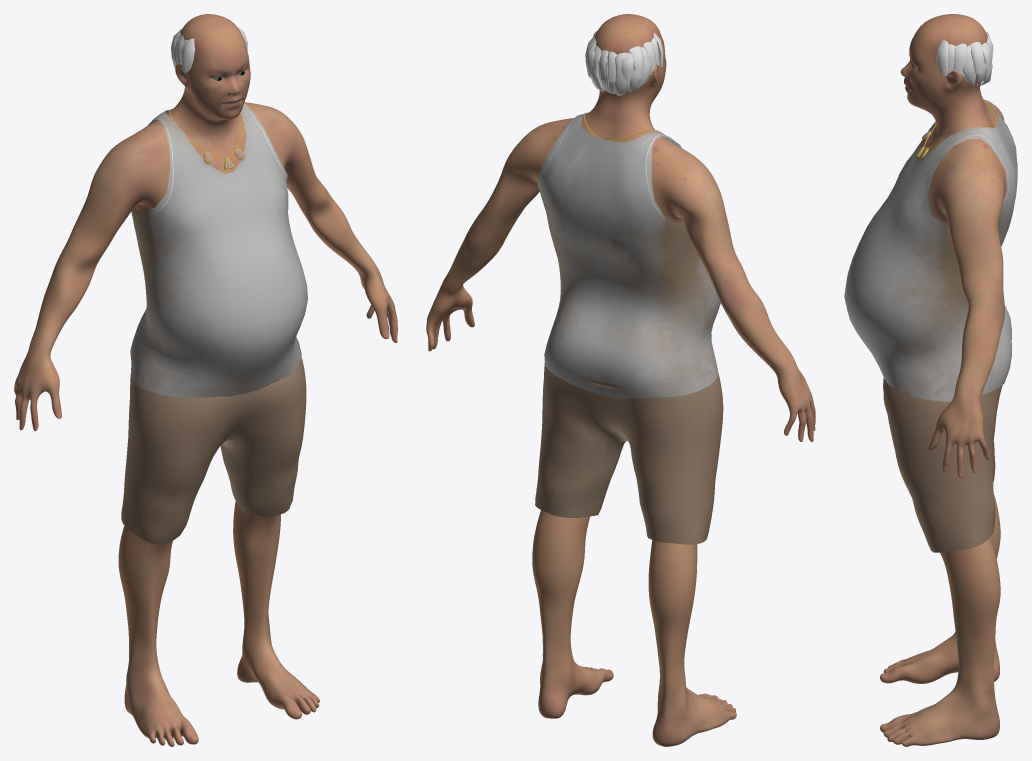
Rendered from OldManModel.fbx.
3 views of the same model, side by side, from view 1: azimuth 30°, elevation 25°; view 2: azimuth 150°, elevation 25°; view 3: azimuth 270°, elevation 25° (orthographic).
Visible parts, largest first — view 1: Oldman, Shirt, Pant, NurbsPath.013; view 2: Oldman, Shirt, Pant, NurbsPath.013; view 3: Oldman, Shirt, Pant, NurbsPath.013.
Part boxes in pixels (<box>): Oldman: <box>14,14,397,746</box>; Shirt: <box>130,103,307,397</box>; Pant: <box>121,357,306,544</box>; NurbsPath.013: <box>171,27,247,72</box>; Oldman: <box>426,14,815,746</box>; Shirt: <box>536,112,720,398</box>; Pant: <box>535,362,723,544</box>; NurbsPath.013: <box>585,30,663,95</box>; Oldman: <box>880,14,1006,746</box>; Shirt: <box>844,99,1017,401</box>; Pant: <box>883,378,1002,552</box>; NurbsPath.013: <box>936,31,993,85</box>.
Size of the model in its own units: 91.43 by 160 by 36.45.
2 materials, 1 textured.
